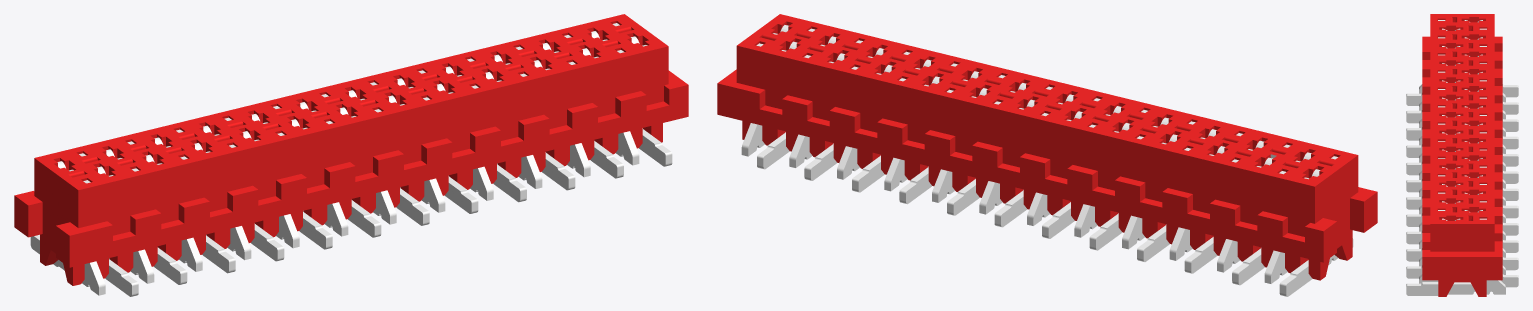
File: mm-24p-smd_p1-27_l32-4_w5_h5-25.obj
The picture shows the model from 3 angles, left to right: view 1: azimuth 30°, elevation 25°; view 2: azimuth 150°, elevation 25°; view 3: azimuth 270°, elevation 25°; orthographic projection. The views are drawn at different scales.
Visible parts, largest first — view 1: mm-24p-smd_p1-27_l32-4_w5_h5-25; view 2: mm-24p-smd_p1-27_l32-4_w5_h5-25; view 3: mm-24p-smd_p1-27_l32-4_w5_h5-25.
Part boxes in pixels (bbox=[...]): mm-24p-smd_p1-27_l32-4_w5_h5-25: bbox=[14, 14, 688, 296]; mm-24p-smd_p1-27_l32-4_w5_h5-25: bbox=[717, 14, 1377, 296]; mm-24p-smd_p1-27_l32-4_w5_h5-25: bbox=[1406, 14, 1518, 296].
Size of the model in its own units: 0.0205 by 0.00333 by 0.00444.
